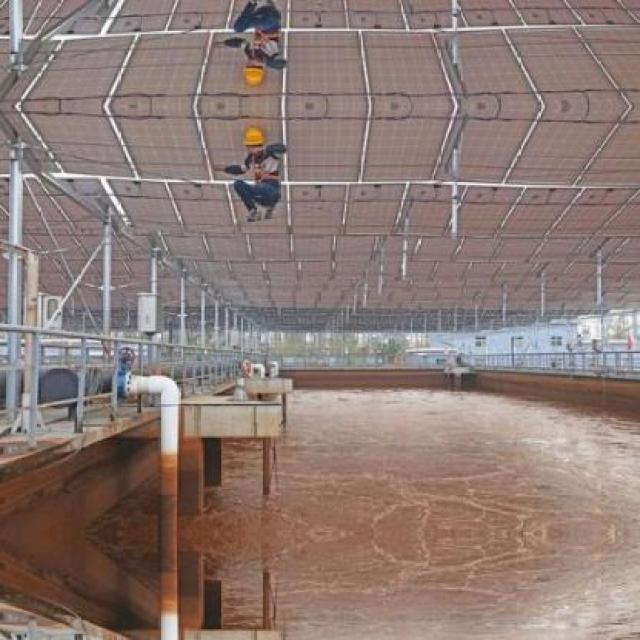helmet: (240, 121, 262, 160), (240, 53, 262, 92)
